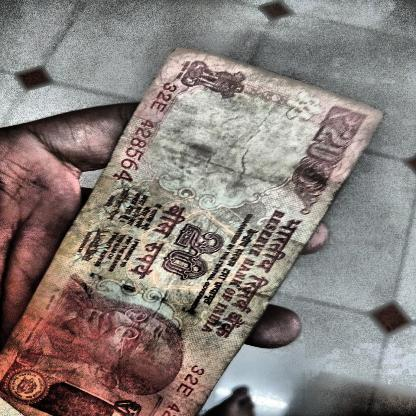Rs2000: (151, 217, 234, 288), (301, 105, 370, 169)
